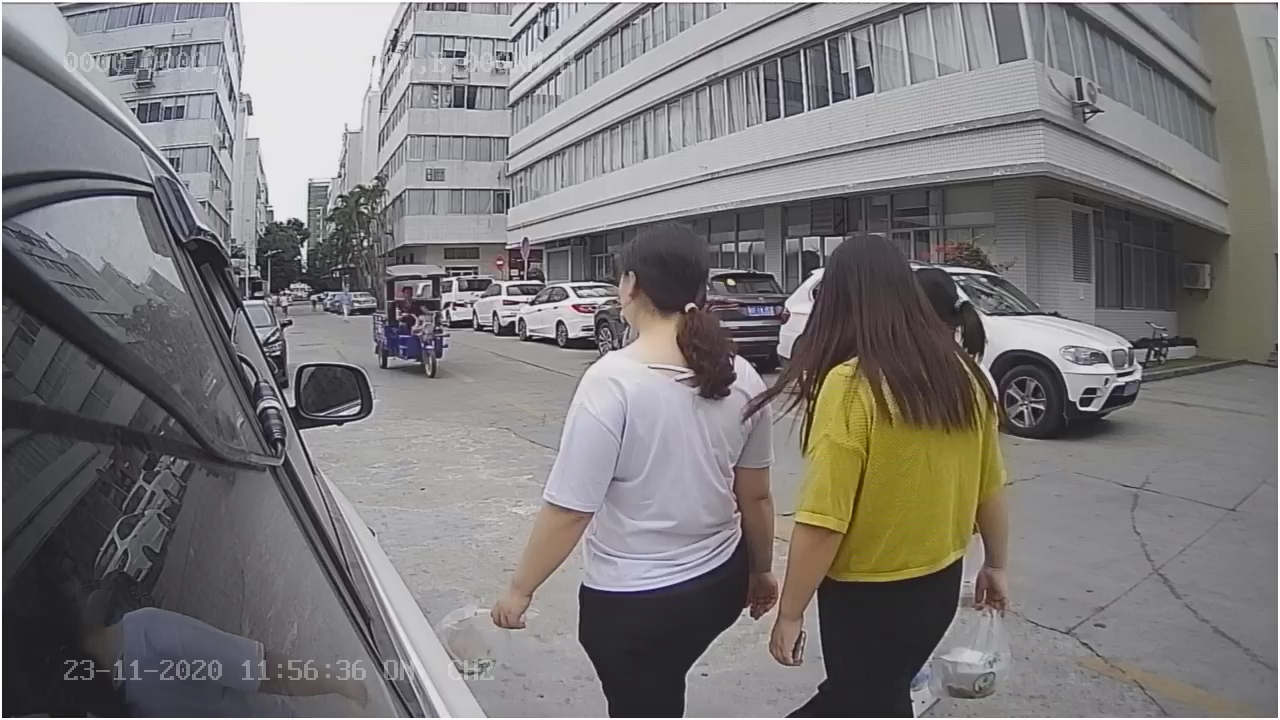person: (486, 217, 777, 720), (763, 228, 1028, 713)
